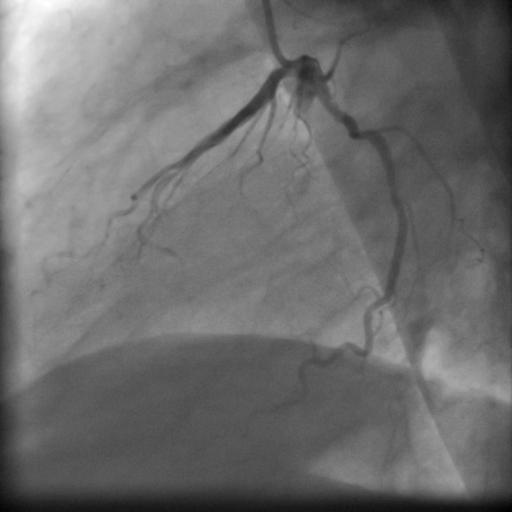Stenosis: (349, 114, 375, 150)
